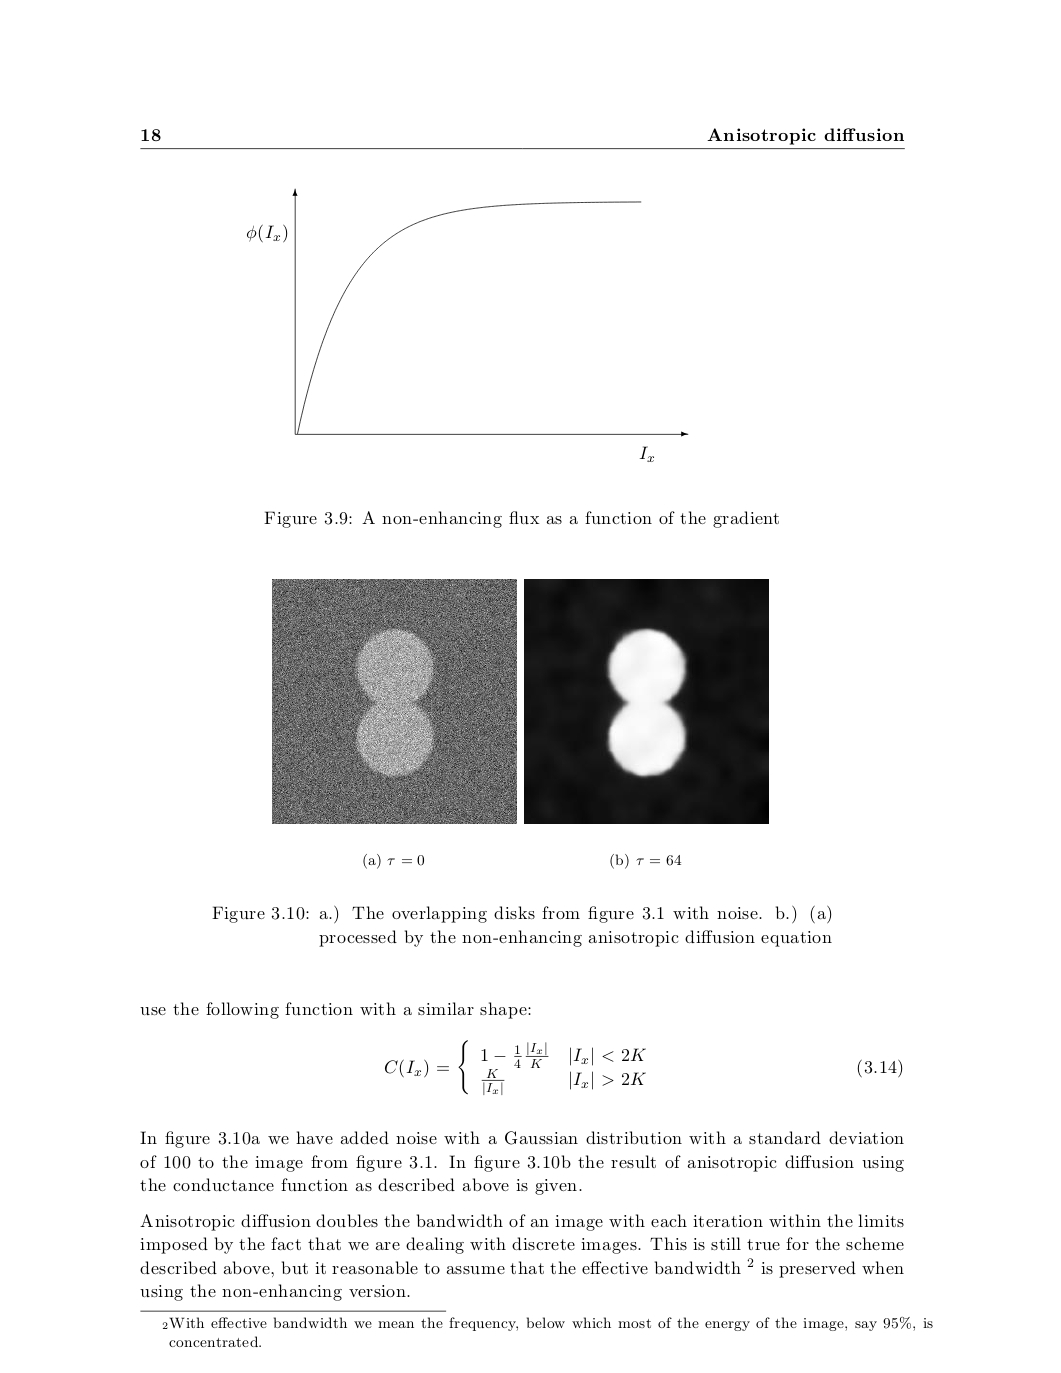figure: (247, 188, 688, 461), (272, 580, 516, 822), (524, 580, 766, 822), (140, 1309, 446, 1312)
formula: (385, 1039, 902, 1096)
